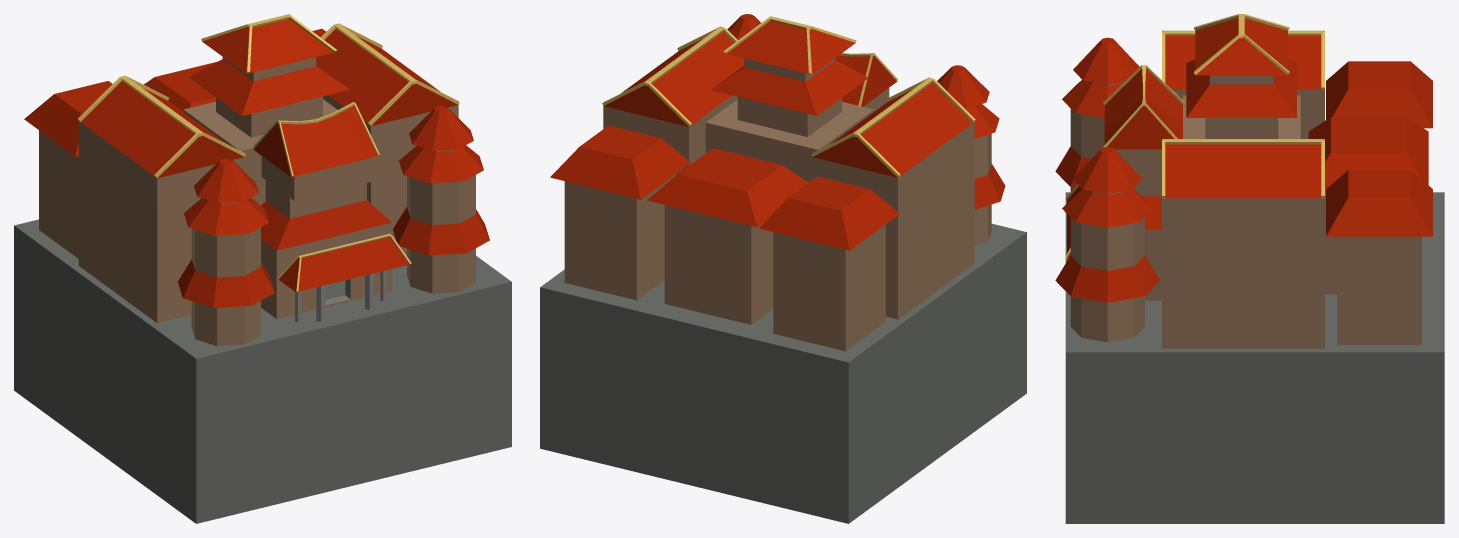
Rendered from temple_mailli_HIGH.fbx.
The picture shows the model from 3 angles, left to right: view 1: azimuth 30°, elevation 25°; view 2: azimuth 150°, elevation 25°; view 3: azimuth 270°, elevation 25°; orthographic projection. The views are drawn at different scales.
Visible parts, largest first — view 1: temple_mailli_HIGH; view 2: temple_mailli_HIGH; view 3: temple_mailli_HIGH.
Boxes of the visible parts, x1,y1,x2,y2 form: temple_mailli_HIGH: (14, 14, 511, 523); temple_mailli_HIGH: (540, 14, 1026, 523); temple_mailli_HIGH: (1055, 14, 1444, 523).
Bounding box in the file's own units: 10 × 12.21 × 10.28.
